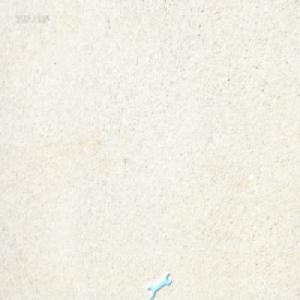Wrench: (148, 271, 172, 297)
